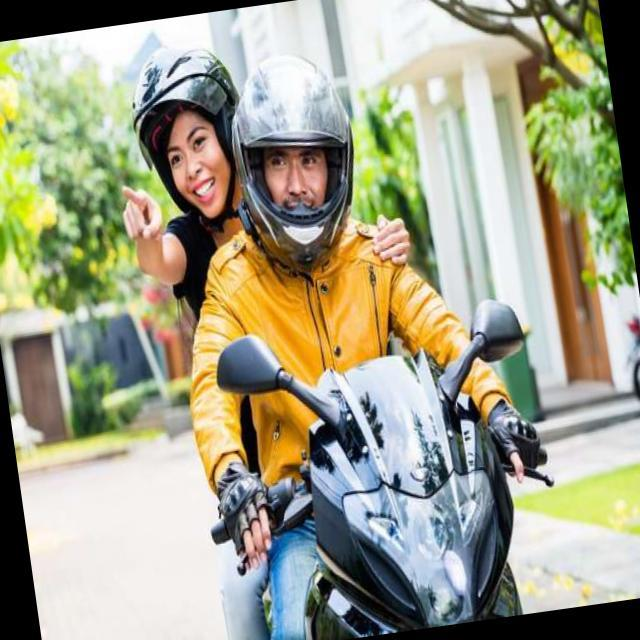Helm: (218, 41, 370, 280), (114, 32, 256, 234)
